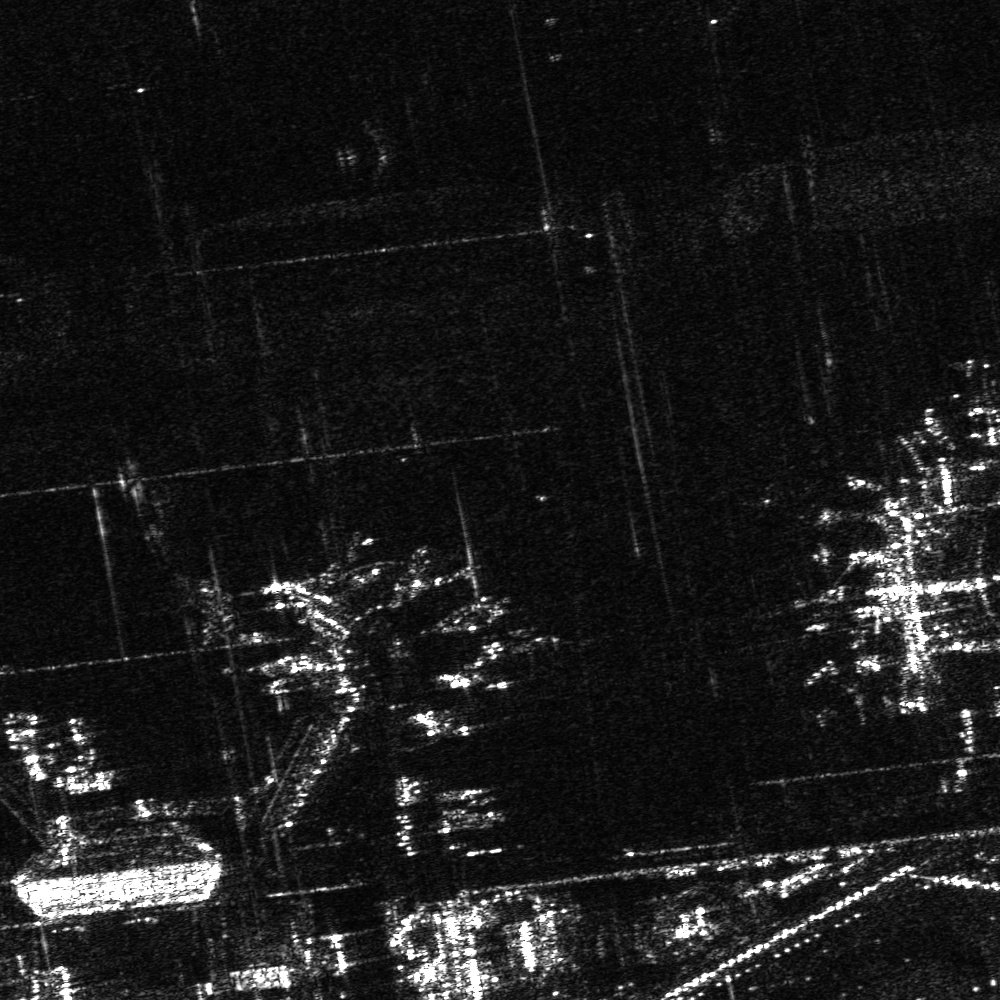Boeing787: (813, 677, 872, 729)
